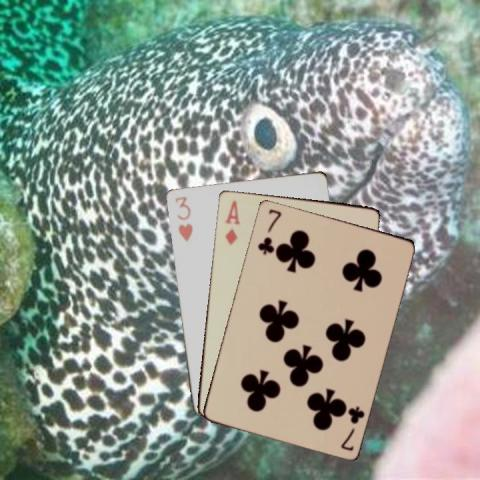3h: (172, 193, 194, 243)
7c: (254, 205, 283, 256), (337, 403, 366, 452)
Ad: (221, 197, 241, 246)
